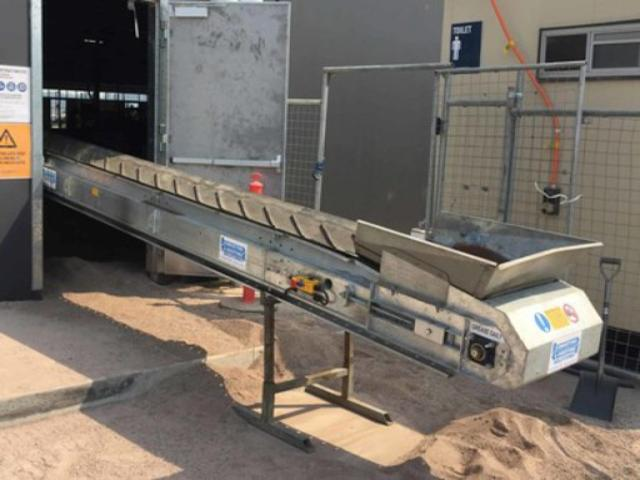conveyor: (40, 128, 609, 390)
